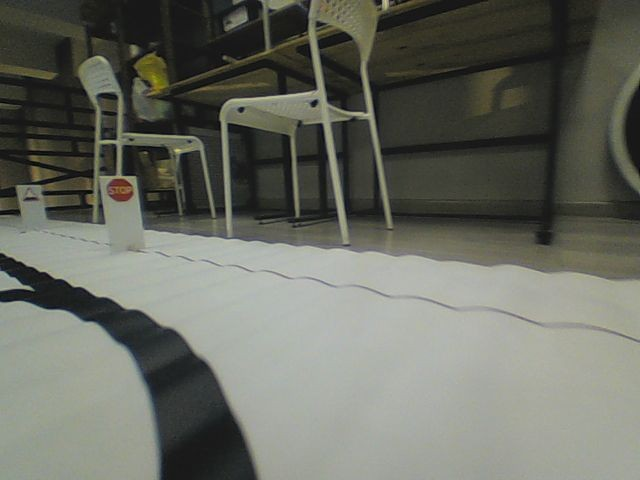Nerov: (22, 186, 40, 203)
Stop: (106, 178, 134, 202)
